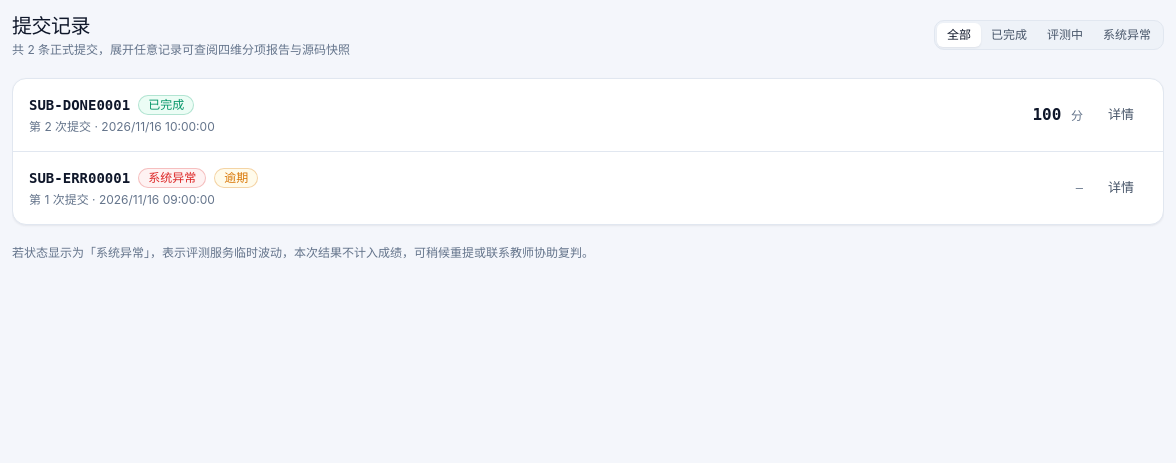
it: fresh audit route fixes › SubmissionsPage filters by grading status and expands detail view
The image size is (1176, 463).
Expected: the text "SUB-DONE0001" is shown, [29, 95, 130, 115]
Expected: the text "SUB-ERR00001" is shown, [29, 168, 130, 188]
Click the button "系统异常": (1127, 35) [1093, 23, 1161, 47]
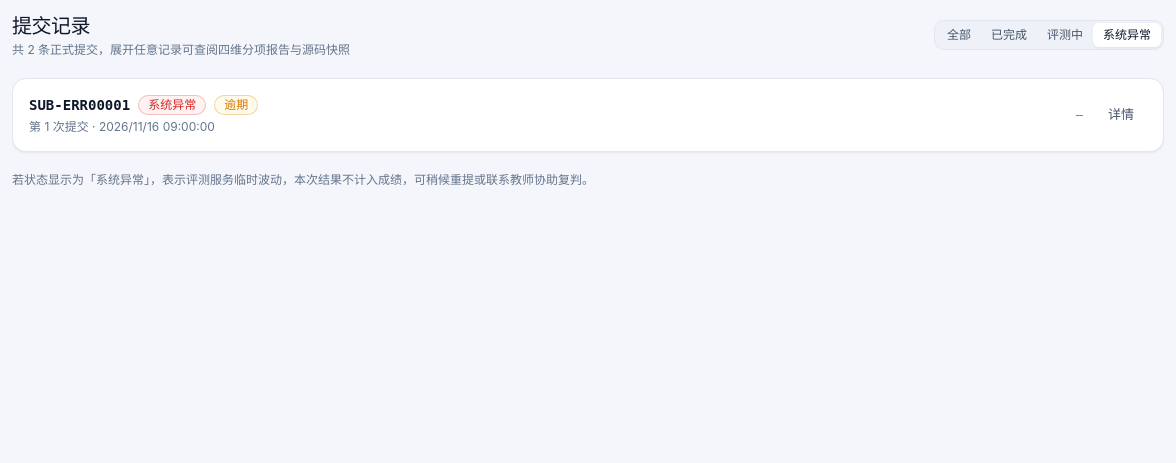
Expected: the text "SUB-ERR00001" is shown, [29, 95, 130, 115]
Expected: the text "SUB-DONE0001" is gone
Click the button "全部": (959, 35) [937, 23, 981, 47]
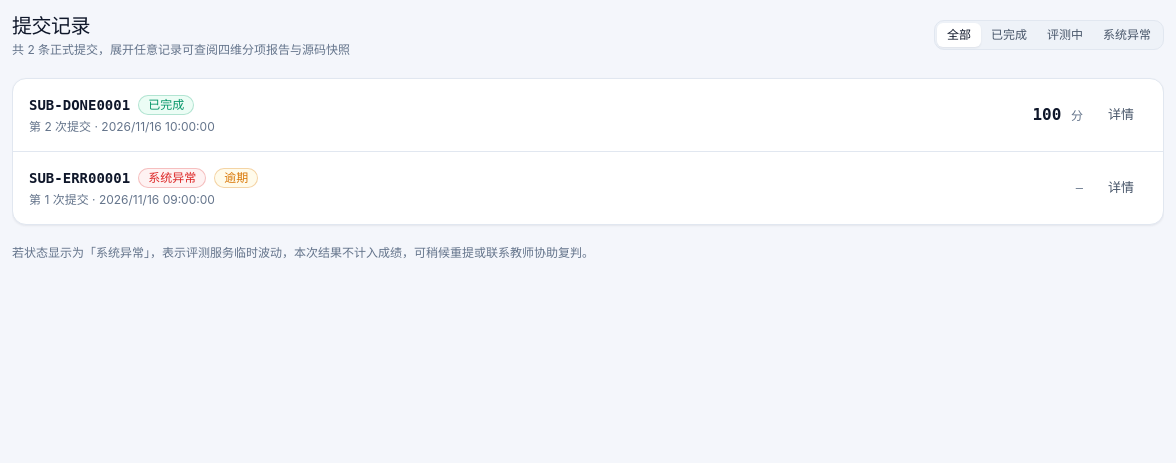
Click the button "详情" in the row of "100": (1121, 115) [1095, 99, 1147, 131]
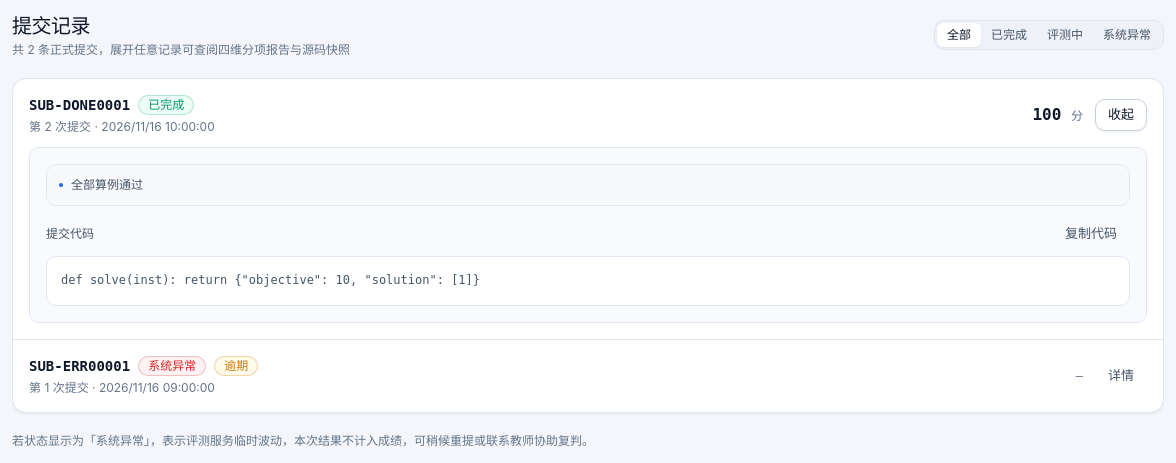
Expected: the text "全部算例通过" is shown, [71, 177, 143, 193]
Expected: the button "复制代码" is shown, [1052, 218, 1130, 250]
